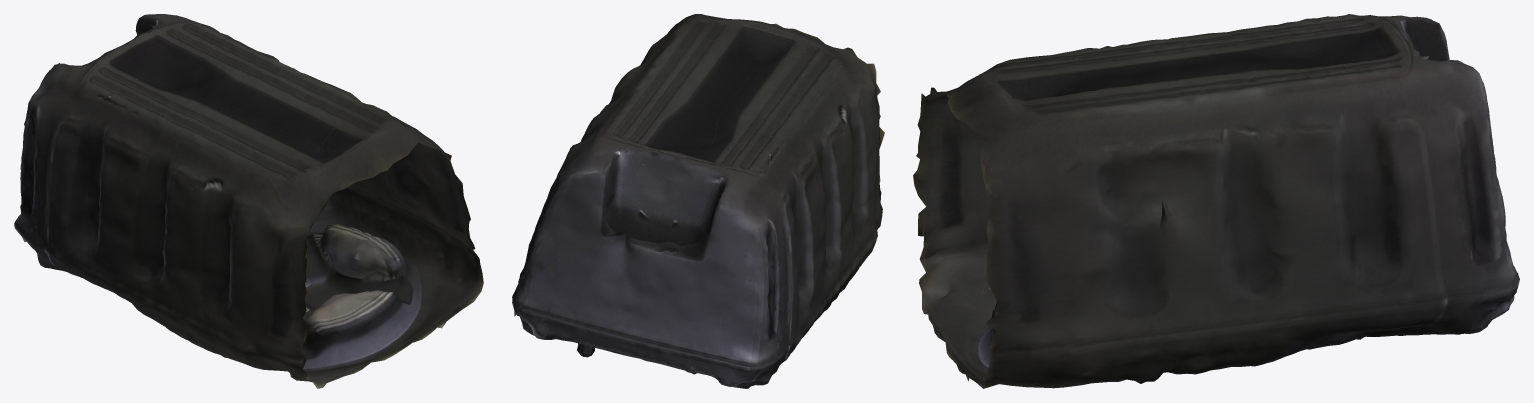
File: sketchfabTemp.obj.fbx
3 renders of one model, left to right at view 1: azimuth 30°, elevation 25°; view 2: azimuth 150°, elevation 25°; view 3: azimuth 270°, elevation 25°, orthographic. The views are drawn at different scales.
Visible parts, largest first — view 1: Stereo textured mesh; view 2: Stereo textured mesh; view 3: Stereo textured mesh.
Part boxes in pixels (x1,y1,x2,y2): Stereo textured mesh: (14,14,483,388); Stereo textured mesh: (512,14,884,388); Stereo textured mesh: (913,14,1519,388).
Size of the model in its own units: 4.35 by 5.97 by 3.11.
1 material, 1 textured.
